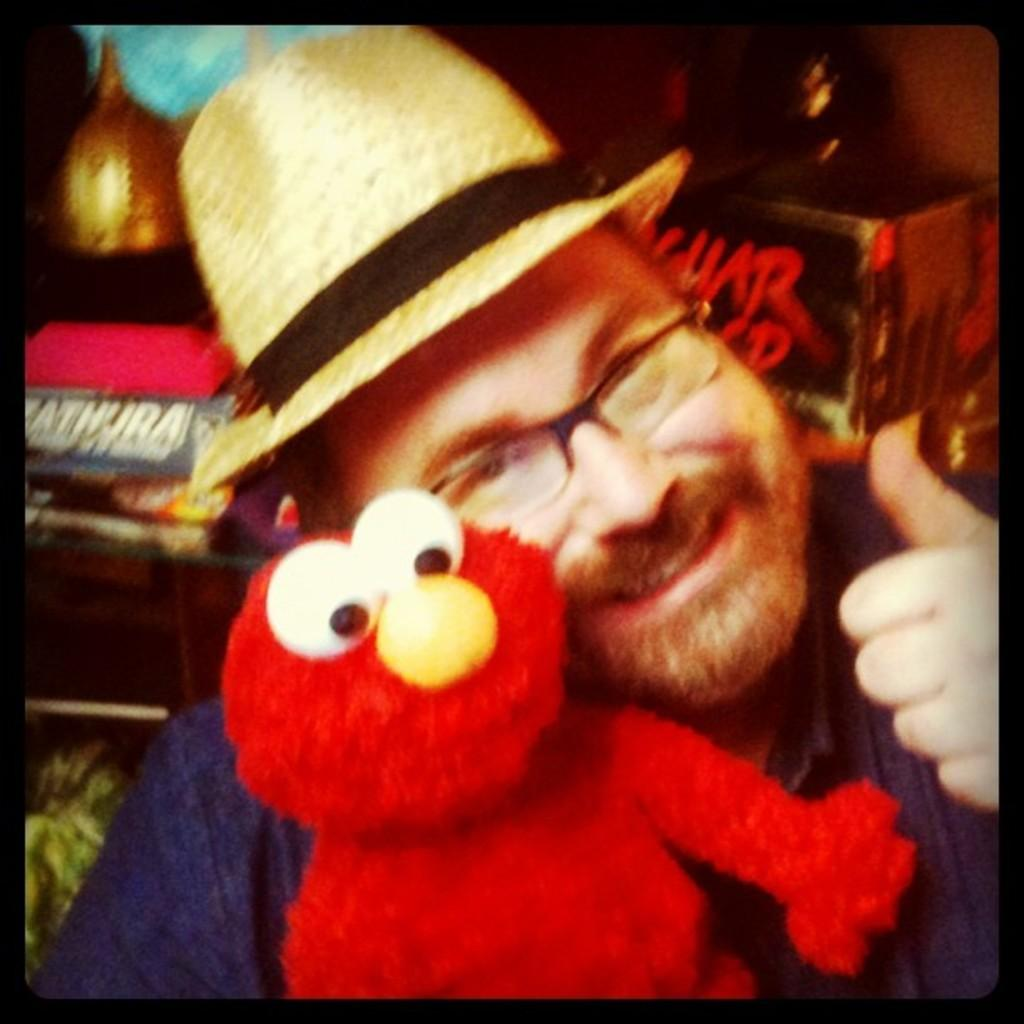Hat: (172, 24, 691, 490)
